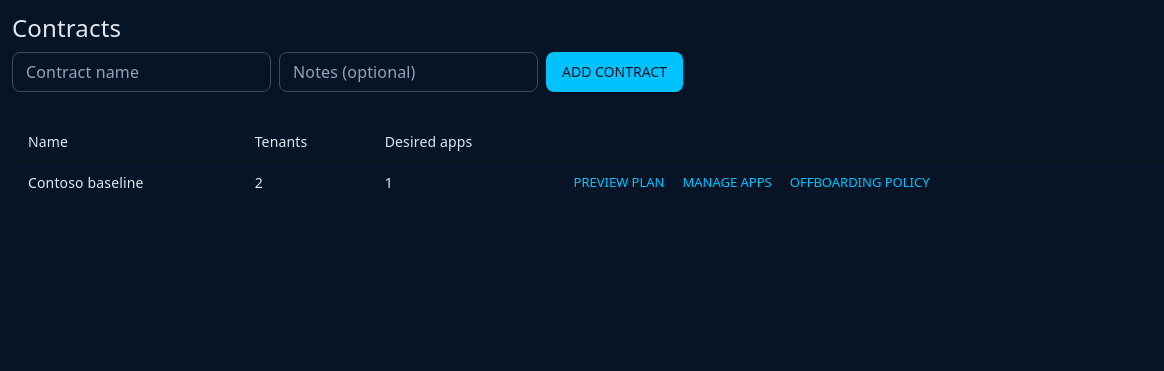
it: Contracts › shows the empty preview plan state
Click the button "Preview plan" at (619, 183), box x1=568 y1=167 x2=670 y2=198
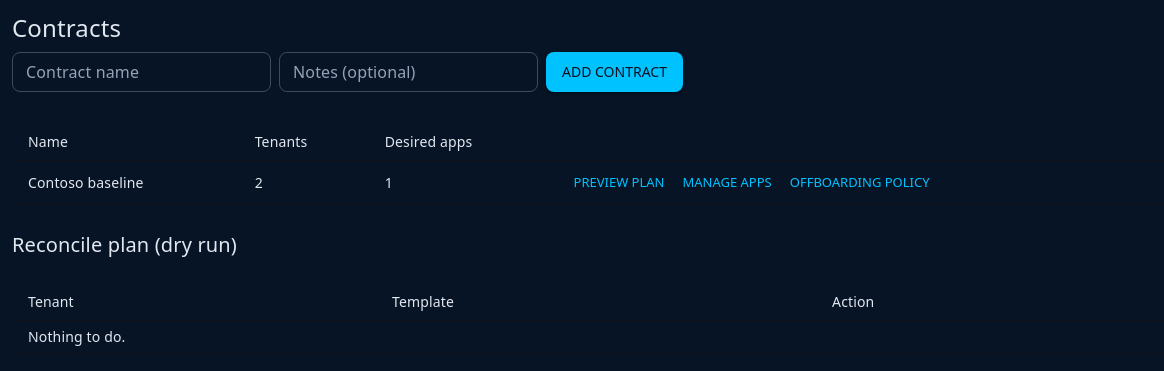
Check: the text "Nothing to do." is shown, box x1=28 y1=327 x2=125 y2=346
